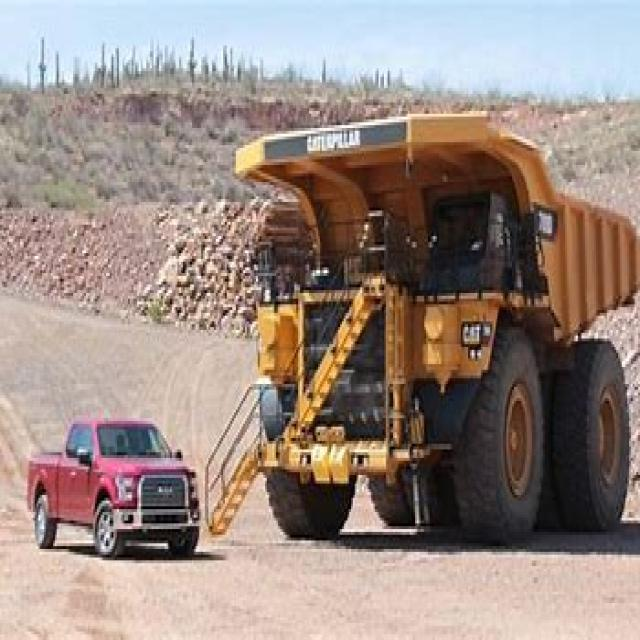dump_truck: (223, 80, 638, 534)
light_vehicle: (13, 398, 208, 572)
